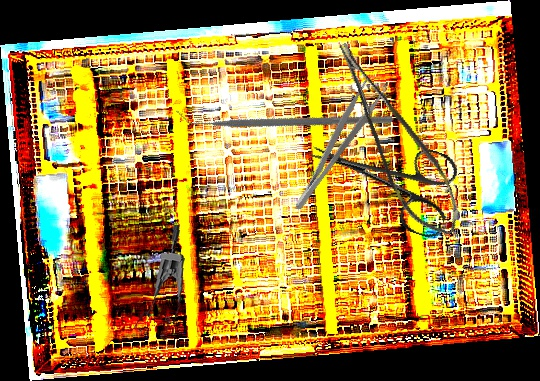Chopper: (175, 13, 395, 218)
Dressing Forceps: (280, 74, 390, 214)
Iris Scissors: (297, 113, 465, 241)
Micro Scissor: (331, 26, 470, 248)
Speculum: (124, 224, 193, 343)
